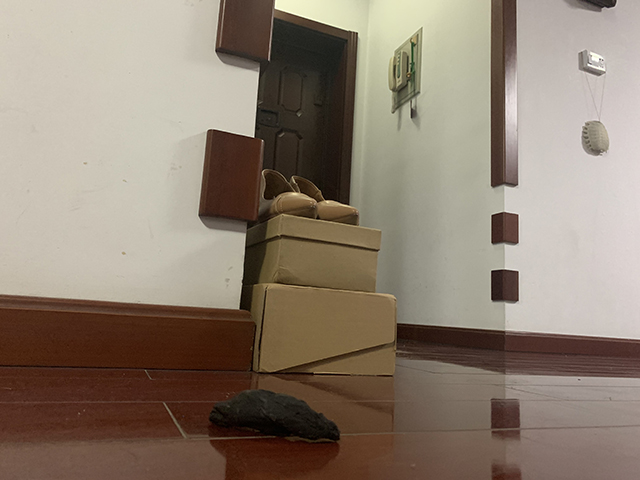feces: (208, 387, 343, 443)
